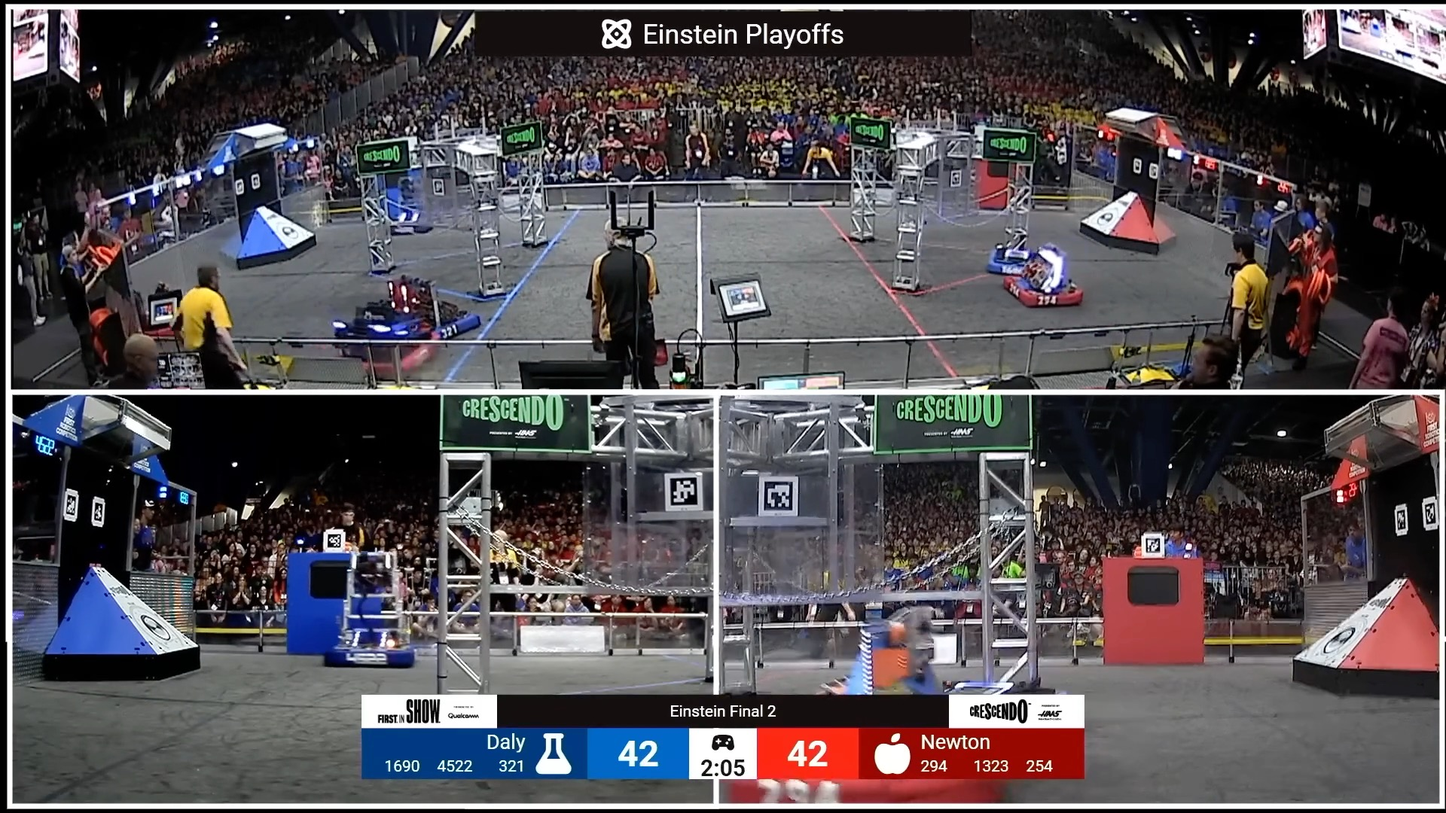bumpers: (377, 307, 485, 340), (999, 273, 1088, 313), (334, 343, 437, 377), (315, 644, 424, 674), (985, 245, 1056, 282)
